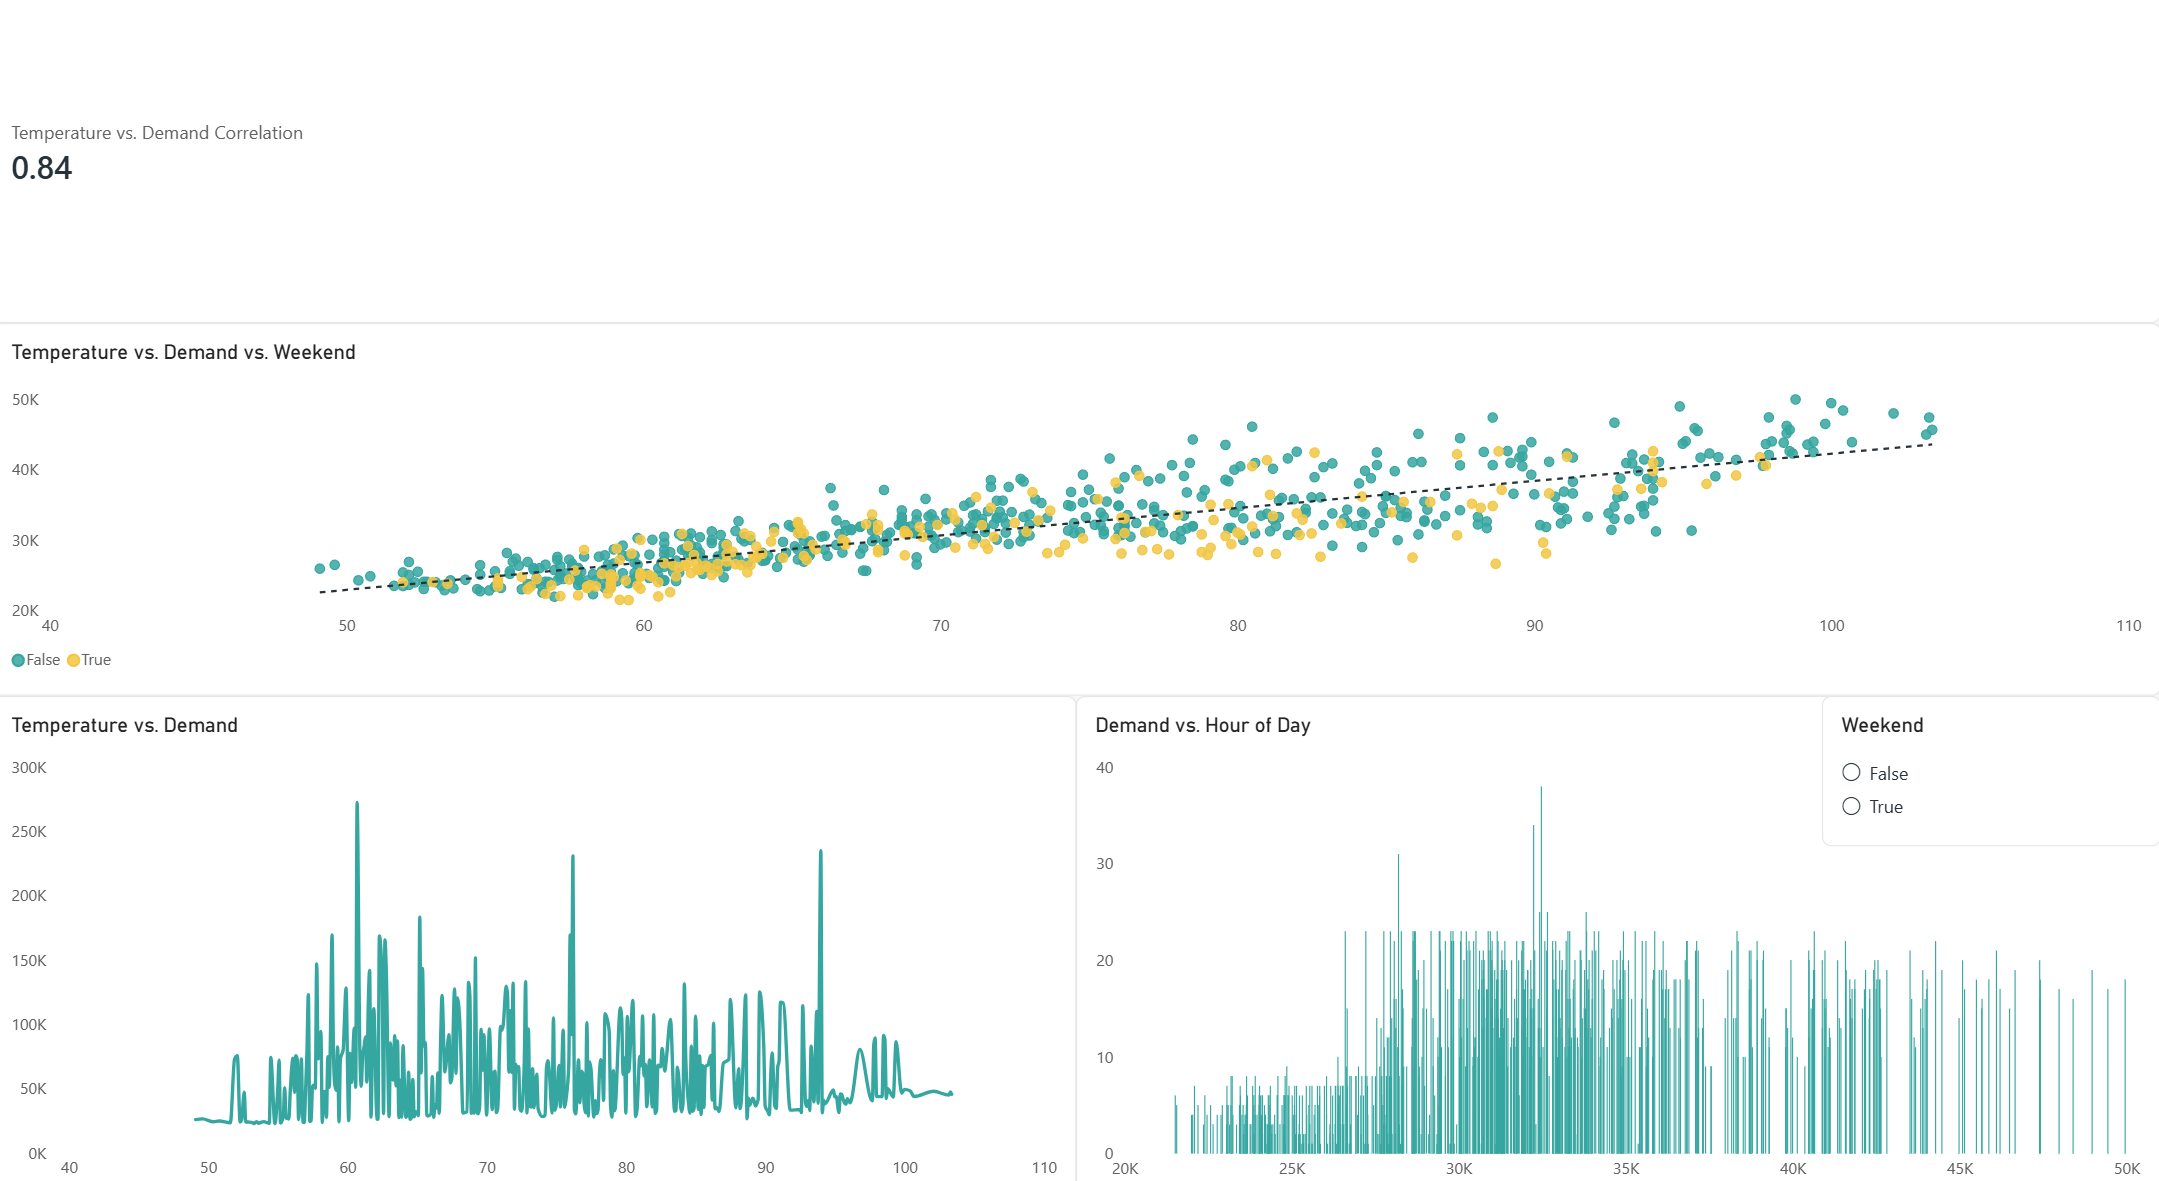

The page's visual inventory and layout, read from the dashboard file:
{"tool":"powerbi","page":{"name":"Demand vs. Weather","canvas":[1920,1080],"ordinal":1},"visuals":[{"type":"scatterChart","title":"Temperature vs. Demand vs. Weekend","fields":{"Series":["Demand.is_weekend"],"X":["Demand.temperature_f"],"Y":["Demand.demand_mwh"]},"box":[0,300.4,1920,329.8],"z":0},{"type":"lineChart","title":"Temperature vs. Demand","fields":{"Category":["Demand.temperature_f"],"Y":["Sum(Demand.demand_mwh)"]},"box":[0,630.2,960,449.6],"z":1000},{"type":"cardVisual","fields":{"Data":["Daily_Mix.Temp-Demand Correlation"]},"box":[0,0,1920,300.4],"z":2000},{"type":"columnChart","title":"Demand vs. Hour of Day","fields":{"Category":["Demand.demand_mwh"],"Y":["Sum(Demand.hour_of_day)"]},"box":[960,630,960,450],"z":3000},{"type":"listSlicer","fields":{"Values":["Demand.is_weekend"]},"box":[1619.6,630.2,300.4,132.5],"z":4000}]}

Visuals, with their boxes in screenshot pixels (x1, y1, x2, y2), scaled from the page's 1920x1080 canvas onto the 2159x1181 screenshot:
"Temperature vs. Demand vs. Weekend" scatterChart: BBox(0, 328, 2158, 689)
"Temperature vs. Demand" lineChart: BBox(0, 689, 1080, 1180)
cardVisual - Daily_Mix.Temp-Demand Correlation: BBox(0, 0, 2158, 328)
"Demand vs. Hour of Day" columnChart: BBox(1080, 689, 2158, 1180)
listSlicer - Demand.is_weekend: BBox(1821, 689, 2158, 834)
